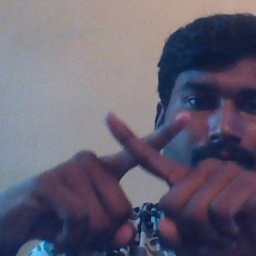X: (76, 98, 217, 233)
